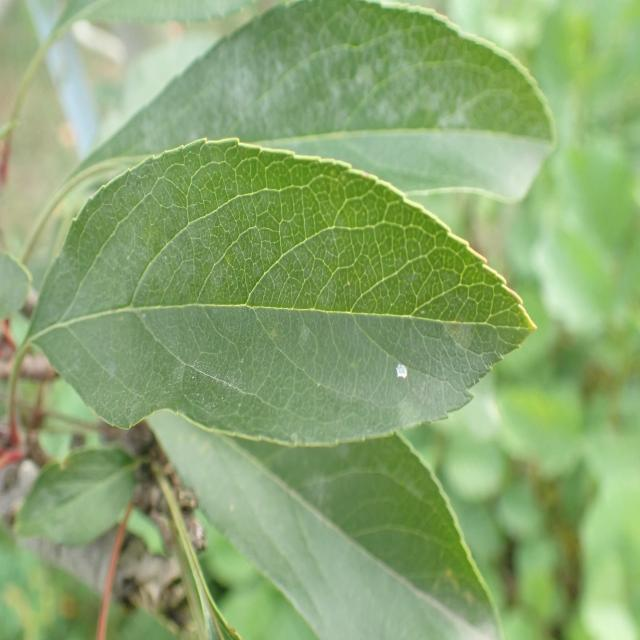Powdery_mildew: (31, 155, 524, 439), (35, 0, 585, 204), (155, 418, 515, 640)
